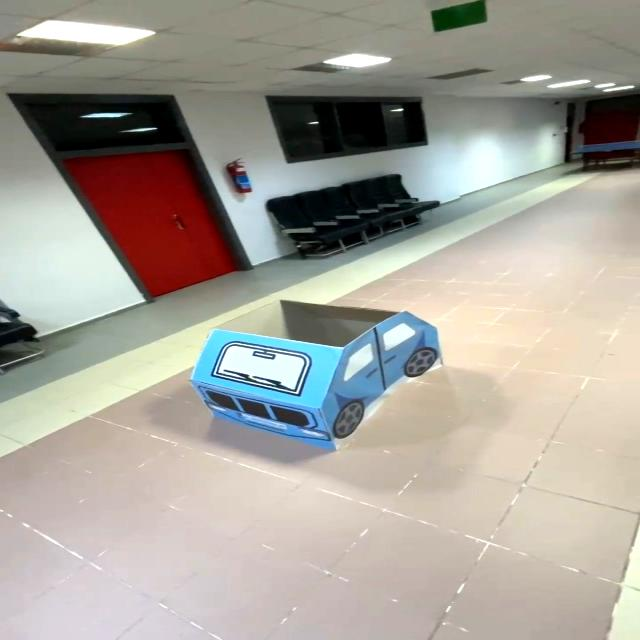blue_car: (135, 281, 479, 458)
